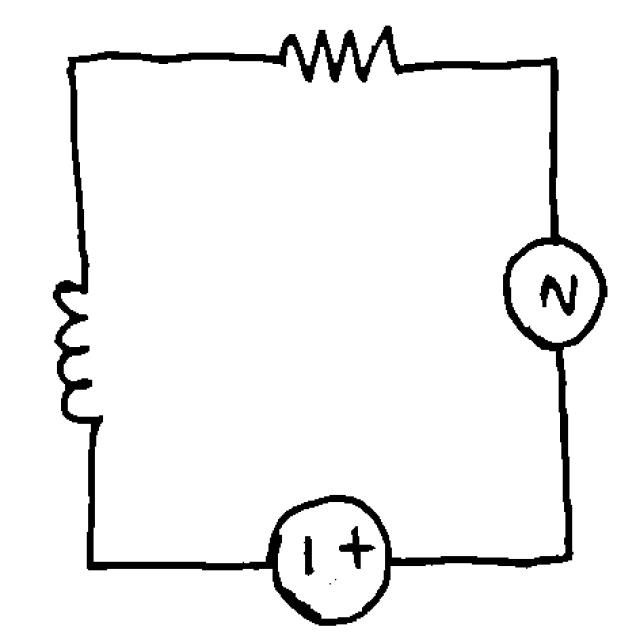ac: (489, 222, 618, 359)
dc: (256, 484, 406, 632)
inductor: (34, 246, 119, 444)
resistor: (254, 10, 419, 99)
